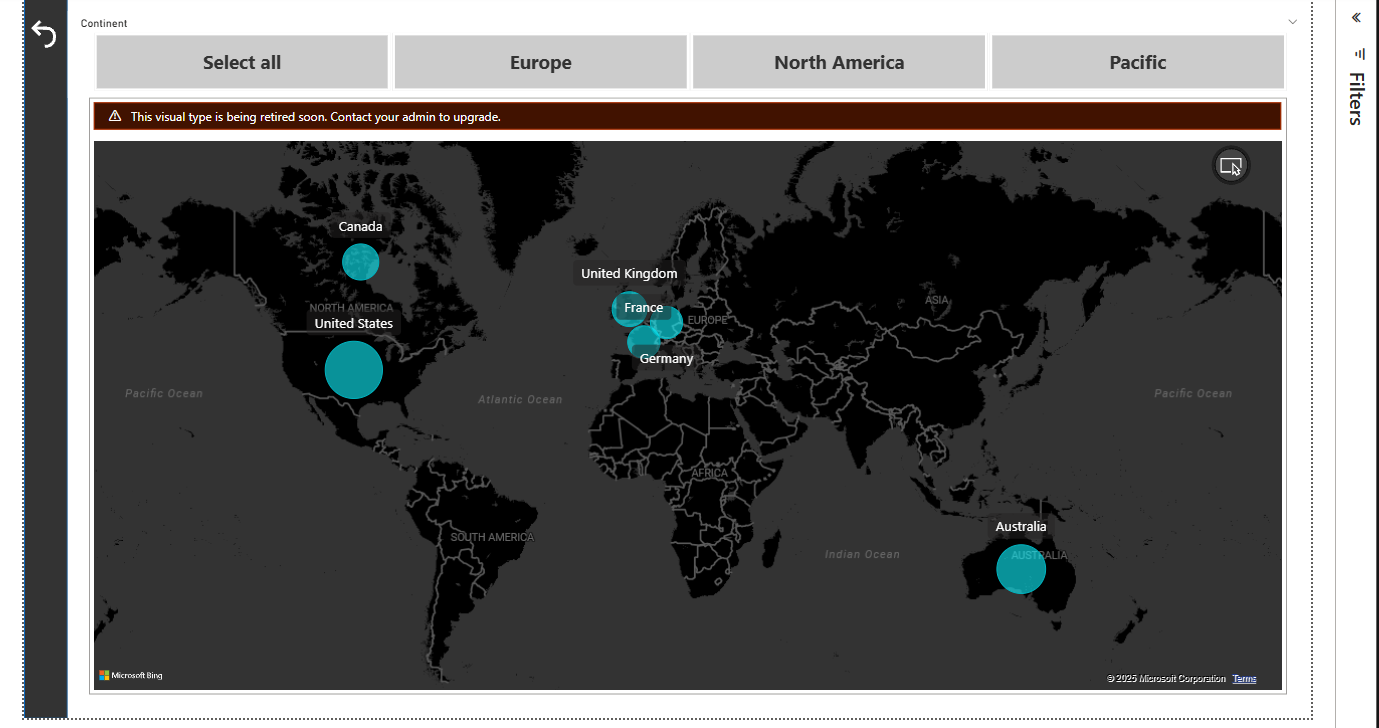

The dashboard page shown, as its layout file describes it:
{"tool":"powerbi","page":{"name":"Map","canvas":[1280,720],"ordinal":1},"visuals":[{"type":"shape","box":[0,0,43.5,720.3],"z":0},{"type":"map","fields":{"Category":["Territory Lookup.Country"],"Size":["Measure Table.Total Orders"]},"box":[64.7,102,1191.7,594.6],"z":1000},{"type":"slicer","fields":{"Values":["Territory Lookup.Continent"]},"box":[43.5,16.2,1236.5,85.8],"z":2000},{"type":"actionButton","box":[1.2,19.9,43.5,37.3],"z":3000}]}

Visuals, with their boxes on the page's 1280x720 design canvas (x1, y1, x2, y2). These are canvas units, not pixel positions in the 1379x728 screenshot, which may show the page scaled, cropped or inside an application window:
shape: detection(0, 0, 44, 720)
map - Territory Lookup.Country x Measure Table.Total Orders: detection(65, 102, 1256, 697)
slicer - Territory Lookup.Continent: detection(44, 16, 1280, 102)
actionButton: detection(1, 20, 45, 57)
